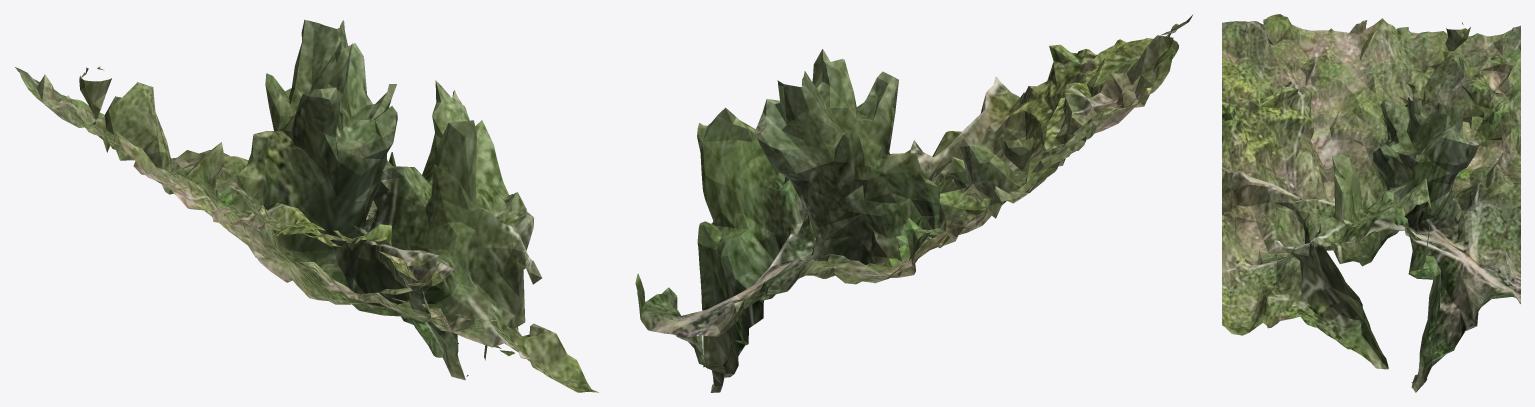
3 renders of one model, left to right at view 1: azimuth 30°, elevation 25°; view 2: azimuth 150°, elevation 25°; view 3: azimuth 270°, elevation 25°, orthographic. The views are drawn at different scales.
Size of the model in its own units: 5.9 by 5.51 by 5.9.
5 materials, 5 textured.
